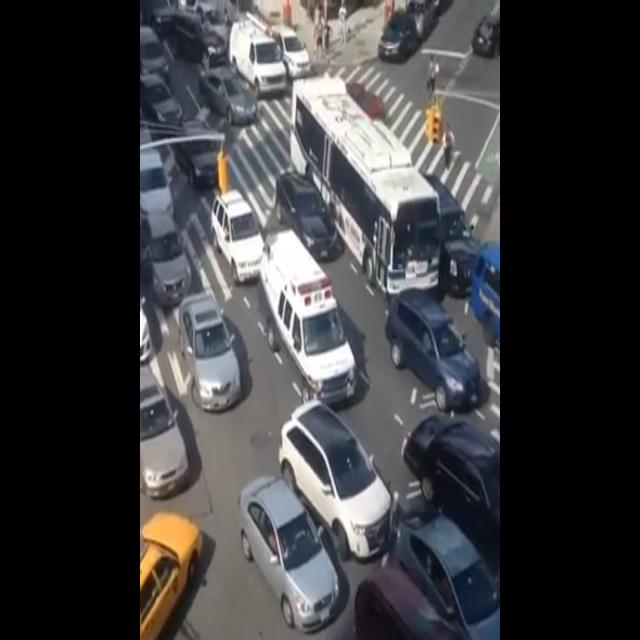Ambulance: (258, 206, 358, 414)
